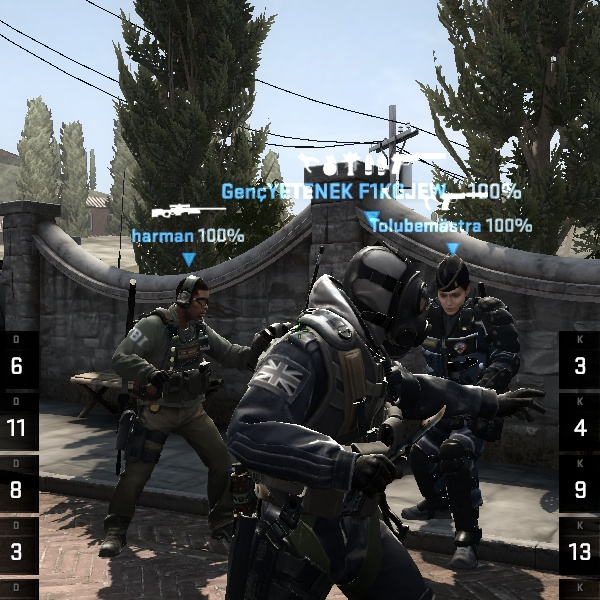ct_body: (96, 269, 251, 551)
ct_head: (319, 234, 442, 335), (414, 253, 491, 324), (162, 271, 222, 328)
